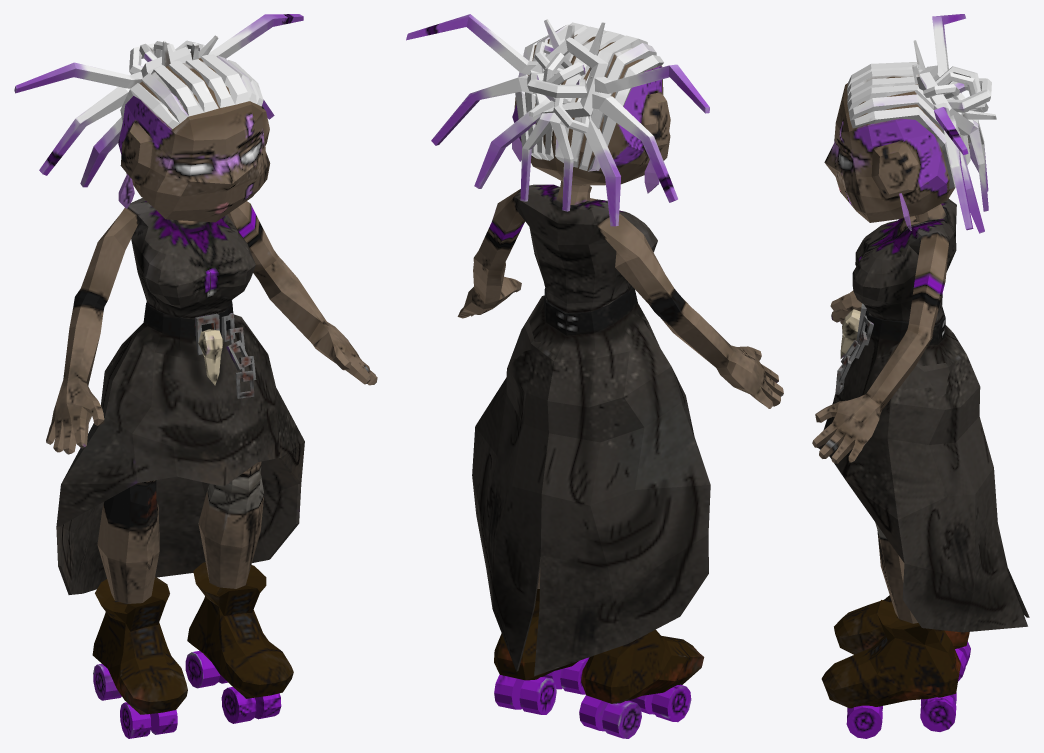
File: bruja_000233.obj
3 renders of one model, left to right at view 1: azimuth 30°, elevation 25°; view 2: azimuth 150°, elevation 25°; view 3: azimuth 270°, elevation 25°, orthographic. The views are drawn at different scales.
Parts seen in each view (by area): view 1: Bruja_Plane.001; view 2: Bruja_Plane.001; view 3: Bruja_Plane.001.
Part boxes in pixels (bbox=[...]): Bruja_Plane.001: bbox=[14, 14, 377, 738]; Bruja_Plane.001: bbox=[406, 14, 783, 738]; Bruja_Plane.001: bbox=[812, 14, 1029, 738].
Bounding box in the file's own units: 8.06 × 16.65 × 4.98.
